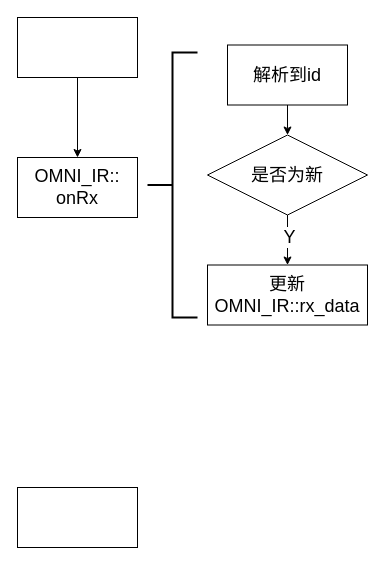
Image size: 385x565. Some labels were removed from this diagram. The centre of each missing label's shape, as x and y in pixels:
串口回调: point 77,47
全向发送: point 77,517
